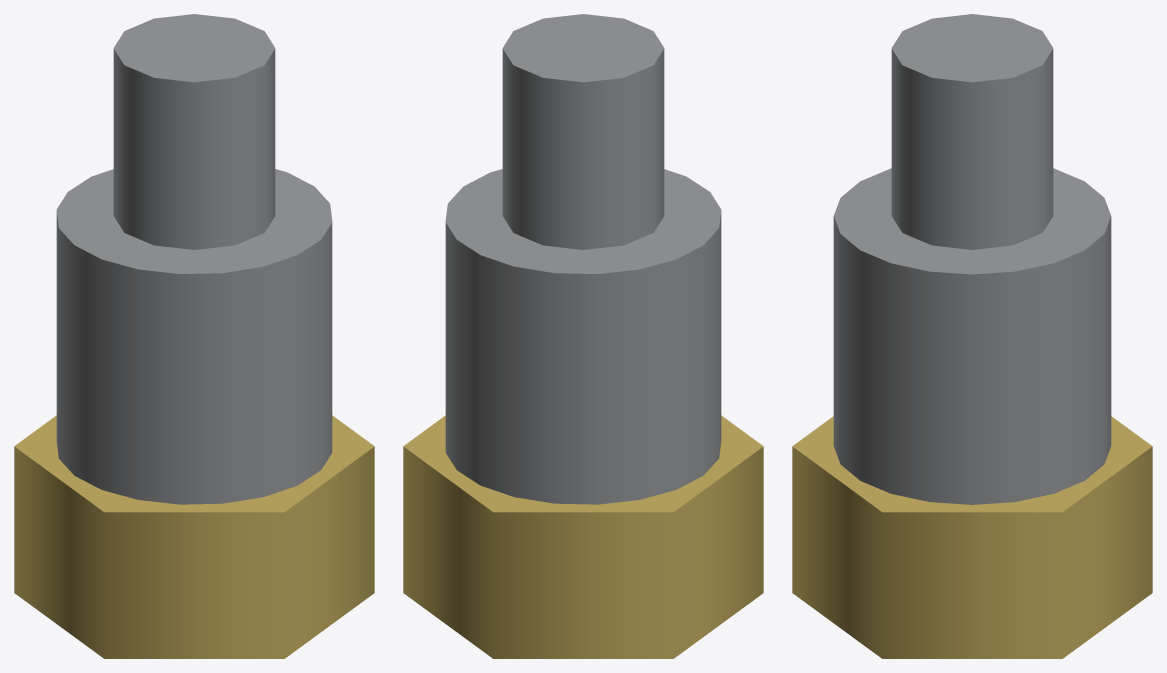
The model's file is air-check-valve.glb.
The picture shows the model from 3 angles, left to right: view 1: azimuth 30°, elevation 25°; view 2: azimuth 150°, elevation 25°; view 3: azimuth 270°, elevation 25°; orthographic projection.
Visible parts, largest first — view 1: air-check-valve:castAlu, air-check-valve:yellowZinc; view 2: air-check-valve:castAlu, air-check-valve:yellowZinc; view 3: air-check-valve:castAlu, air-check-valve:yellowZinc.
Part boxes in pixels (x1,y1,x2,y2): air-check-valve:castAlu: (56, 14, 332, 504); air-check-valve:yellowZinc: (14, 415, 374, 658); air-check-valve:castAlu: (445, 14, 721, 504); air-check-valve:yellowZinc: (403, 415, 763, 658); air-check-valve:castAlu: (833, 14, 1111, 504); air-check-valve:yellowZinc: (792, 416, 1152, 658).
Bounding box in the file's own units: 27 × 52 × 31.18.
